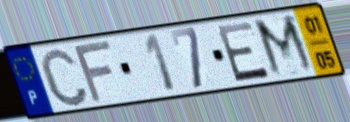1: (144, 31, 178, 95)
7: (167, 25, 207, 92)
C: (37, 46, 91, 109)
E: (213, 19, 273, 85)
F: (72, 38, 116, 106)
M: (250, 12, 319, 81)
